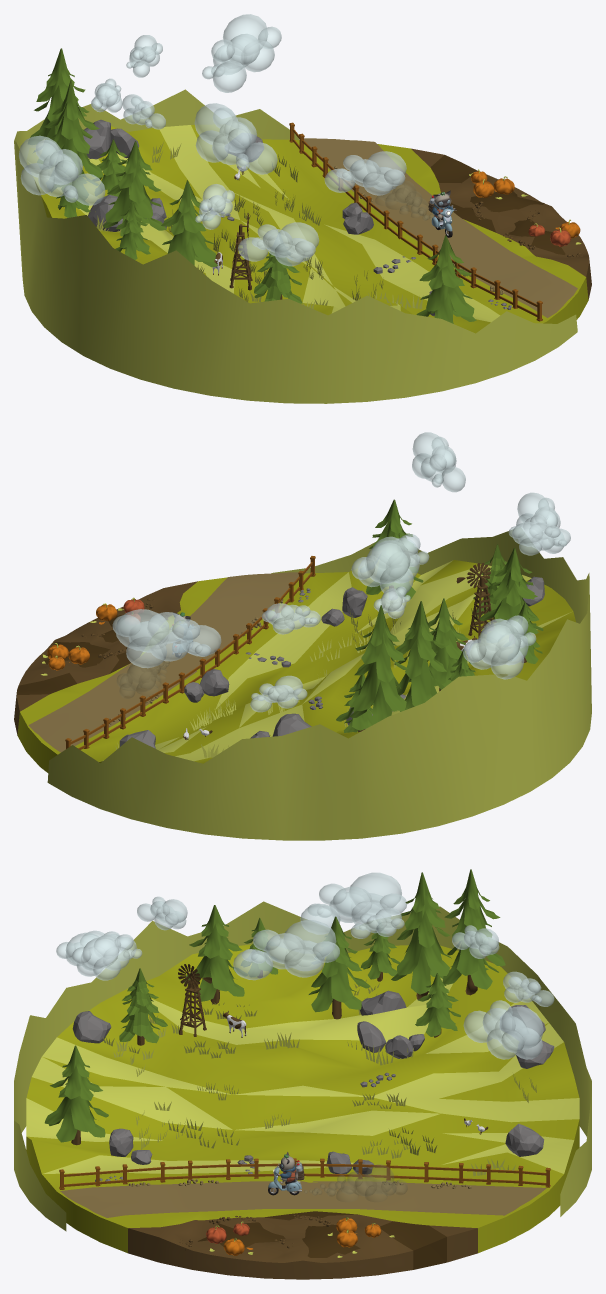
3 renders of one model, top to bottom at view 1: azimuth 30°, elevation 25°; view 2: azimuth 150°, elevation 25°; view 3: azimuth 270°, elevation 25°, orthographic.
Parts seen in each view (by area): view 1: polySurface1353, polySurface1352, pPlane4, pCube74, pCube72, pCube116, pCube115, polySurface1306, pCube73, polySurface645, polySurface652, polySurface1305 (+20 smaller); view 2: polySurface1353, polySurface1352, pPlane4, pCube116, polySurface1323, pCube74, pCube72, polySurface652, pCube115, polySurface946, polySurface1305, polySurface645 (+18 smaller); view 3: polySurface1352, polySurface1353, pPlane4, pCube72, pCube74, polySurface652, pCube116, polySurface1323, polySurface1306, polySurface946, polySurface645, polySurface1305 (+25 smaller).
Part boxes in pixels (left/top/right/bottom): polySurface1353: left=14, top=89, right=577, bottom=403; polySurface1352: left=27, top=124, right=591, bottom=333; pPlane4: left=304, top=138, right=577, bottom=317; pCube74: left=19, top=135, right=105, bottom=205; pCube72: left=194, top=103, right=277, bottom=174; pCube116: left=202, top=14, right=281, bottom=92; pCube115: left=324, top=151, right=406, bottom=195; polySurface1306: left=416, top=235, right=476, bottom=323; pCube73: left=238, top=222, right=319, bottom=266; polySurface645: left=103, top=141, right=166, bottom=236; polySurface652: left=43, top=80, right=103, bottom=200; polySurface1305: left=161, top=180, right=217, bottom=267; polySurface1353: left=47, top=530, right=591, bottom=840; polySurface1352: left=14, top=560, right=575, bottom=772; pPlane4: left=28, top=572, right=306, bottom=752; pCube116: left=112, top=609, right=221, bottom=668; polySurface1323: left=349, top=605, right=407, bottom=724; pCube74: left=463, top=615, right=536, bottom=679; pCube72: left=351, top=534, right=429, bottom=593; polySurface652: left=394, top=601, right=446, bottom=708; pCube115: left=412, top=432, right=465, bottom=492; polySurface946: left=139, top=556, right=315, bottom=716; polySurface1305: left=479, top=548, right=543, bottom=640; polySurface645: left=427, top=598, right=474, bottom=691; polySurface1352: left=26, top=944, right=579, bottom=1279; polySurface1353: left=14, top=901, right=591, bottom=1231; pPlane4: left=60, top=1181, right=546, bottom=1217; pCube72: left=233, top=919, right=339, bottom=980; pCube74: left=300, top=872, right=407, bottom=933; polySurface652: left=391, top=872, right=451, bottom=999; pCube116: left=463, top=1000, right=543, bottom=1059; polySurface1323: left=442, top=869, right=505, bottom=995; polySurface1306: left=44, top=1045, right=108, bottom=1145; polySurface946: left=59, top=1158, right=428, bottom=1189; polySurface645: left=308, top=916, right=370, bottom=1019; polySurface1305: left=184, top=905, right=247, bottom=1004.
Bounding box in the file's own units: 0.3187 × 0.1305 × 0.3229.
15 materials, 2 textured.
